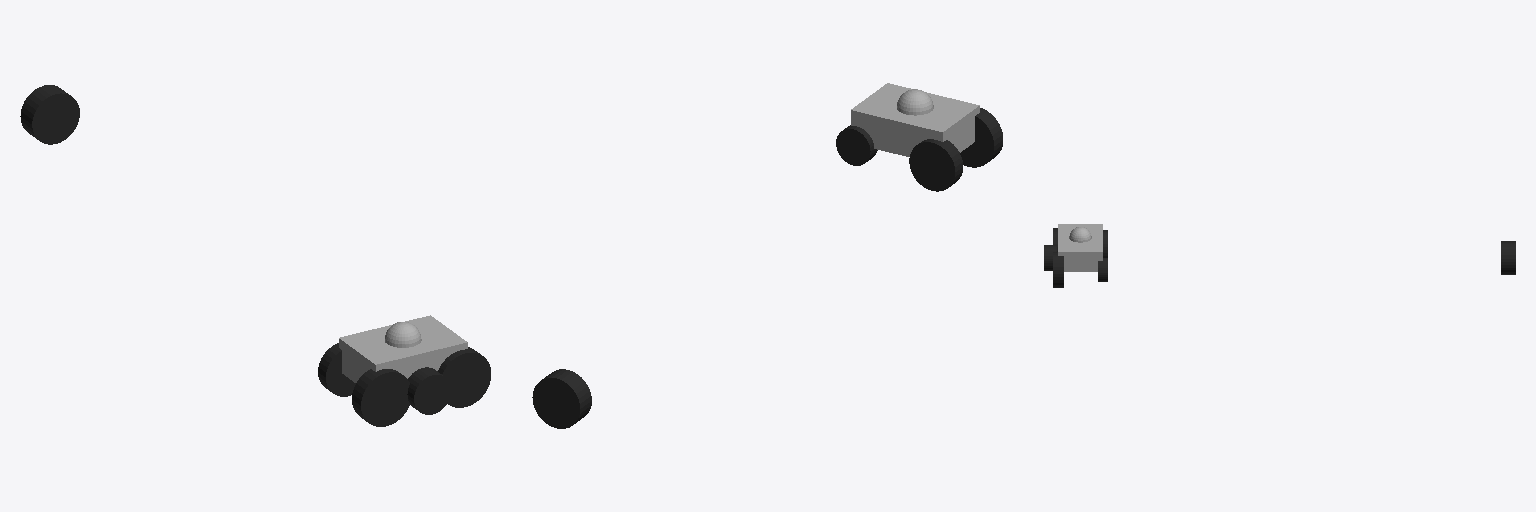
robot.urdf — evolved_robot:
<?xml version="1.0"?>
<robot name="evolved_robot">
  <material name="metal">
    <color rgba="0.7 0.7 0.7 1.0"/>
  </material>
  <material name="plastic">
    <color rgba="0.3 0.3 0.9 1.0"/>
  </material>
  <material name="rubber">
    <color rgba="0.1 0.1 0.1 1.0"/>
  </material>
  <material name="red">
    <color rgba="1.0 0.0 0.0 1.0"/>
  </material>
  <material name="wheel_material">
    <color rgba="0.2 0.2 0.2 1.0"/>
  </material>
  <link name="base_link">
    <visual>
      <geometry><box size="0.28200543666407374 0.1960602003020291 0.09653921606559923"/></geometry>
      <material name="metal"/>
    </visual>
    <collision>
      <geometry><box size="0.28200543666407374 0.1960602003020291 0.09653921606559923"/></geometry>
    </collision>
    <inertial>
      <mass value="5.0"/>
      <inertia ixx="0.03979951865086018" ixy="0" ixz="0" 
               iyy="0.07403907212221279" iyz="0" 
               izz="0.09830555704213889"/>
    </inertial>
  </link>
  <link name="link1">
    <visual>
      <geometry>
        <cylinder radius="0.05276887741149976" length="0.040581285150848495"/>
      </geometry>
      <material name="wheel_material"/>
    </visual>
    <collision>
      <geometry>
        <cylinder radius="0.05276887741149976" length="0.040581285150848495"/>
      </geometry>
    </collision>
    <inertial>
      <mass value="1.0"/>
      <inertia ixx="0.000833375331192012" ixy="0" ixz="0" 
               iyy="0.000833375331192012" iyz="0" 
               izz="0.0013922772116349445"/>
    </inertial>
  </link>
  <joint name="joint1" type="continuous">
    <parent link="base_link"/>
    <child link="link1"/>
    <origin xyz="0.12100271833203687 0.09803010015101454 -0.048269608032799616" rpy="1.5708 0 0"/>
    <axis xyz="0 0 1"/>
    <dynamics damping="0.7812145894427714" friction="0.1"/>
  </joint>
  <link name="link2">
    <visual>
      <geometry>
        <cylinder radius="0.07899620941041051" length="0.04772637766097393"/>
      </geometry>
      <material name="wheel_material"/>
    </visual>
    <collision>
      <geometry>
        <cylinder radius="0.07899620941041051" length="0.04772637766097393"/>
      </geometry>
    </collision>
    <inertial>
      <mass value="1.0"/>
      <inertia ixx="0.00174991753568985" ixy="0" ixz="0" 
               iyy="0.00174991753568985" iyz="0" 
               izz="0.003120200550606715"/>
    </inertial>
  </link>
  <joint name="joint2" type="continuous">
    <parent link="base_link"/>
    <child link="link2"/>
    <origin xyz="0.12100271833203687 -0.09803010015101454 -0.048269608032799616" rpy="1.5708 0 0"/>
    <axis xyz="0 0 1"/>
    <dynamics damping="0.8652752464137597" friction="0.1"/>
  </joint>
  <link name="link3">
    <visual>
      <geometry>
        <cylinder radius="0.07063797436999575" length="0.042093354478068126"/>
      </geometry>
      <material name="wheel_material"/>
    </visual>
    <collision>
      <geometry>
        <cylinder radius="0.07063797436999575" length="0.042093354478068126"/>
      </geometry>
    </collision>
    <inertial>
      <mass value="1.0"/>
      <inertia ixx="0.001395085063375402" ixy="0" ixz="0" 
               iyy="0.001395085063375402" iyz="0" 
               izz="0.002494861711548088"/>
    </inertial>
  </link>
  <joint name="joint3" type="continuous">
    <parent link="base_link"/>
    <child link="link3"/>
    <origin xyz="-0.12100271833203687 0.09803010015101454 -0.048269608032799616" rpy="1.5708 0 0"/>
    <axis xyz="0 0 1"/>
    <dynamics damping="0.69190020288255" friction="0.1"/>
  </joint>
  <link name="link4">
    <visual>
      <geometry>
        <cylinder radius="0.07828401586055114" length="0.048557610339922924"/>
      </geometry>
      <material name="wheel_material"/>
    </visual>
    <collision>
      <geometry>
        <cylinder radius="0.07828401586055114" length="0.048557610339922924"/>
      </geometry>
    </collision>
    <inertial>
      <mass value="1.0"/>
      <inertia ixx="0.001728583578307405" ixy="0" ixz="0" 
               iyy="0.001728583578307405" iyz="0" 
               izz="0.0030641935696275116"/>
    </inertial>
  </link>
  <joint name="joint4" type="continuous">
    <parent link="base_link"/>
    <child link="link4"/>
    <origin xyz="-0.12100271833203687 -0.09803010015101454 -0.048269608032799616" rpy="1.5708 0 0"/>
    <axis xyz="0 0 1"/>
    <dynamics damping="0.6849628307493921" friction="0.1"/>
  </joint>
  <link name="link5">
    <visual>
      <geometry><sphere radius="0.04915514420561673"/></geometry>
      <material name="metal"/>
    </visual>
    <collision>
      <geometry><sphere radius="0.04915514420561673"/></geometry>
    </collision>
    <inertial>
      <mass value="0.5"/>
      <inertia ixx="0.0009664912807499903" ixy="0" ixz="0" 
               iyy="0.0009664912807499903" iyz="0" 
               izz="0.0009664912807499903"/>
    </inertial>
  </link>
  <joint name="joint5" type="prismatic">
    <parent link="base_link"/>
    <child link="link5"/>
    <origin xyz="0 0 0.048269608032799616" rpy="0 0 0"/>
    <axis xyz="-0.6400863788580589 0.5944352090492525 0.48676093705529505"/>
    <dynamics damping="0.7028373833923687" friction="0.1"/>
    <limit lower="-0.3644232264120007" upper="0.9926335345686322" effort="100" velocity="100"/>
  </joint>
  <link name="link6">
    <visual>
      <geometry>
        <cylinder radius="0.05738784063838424" length="0.05389435633647088"/>
      </geometry>
      <material name="wheel_material"/>
    </visual>
    <collision>
      <geometry>
        <cylinder radius="0.05738784063838424" length="0.05389435633647088"/>
      </geometry>
    </collision>
    <inertial>
      <mass value="1.0"/>
      <inertia ixx="0.0010653912003610213" ixy="0" ixz="0" 
               iyy="0.0010653912003610213" iyz="0" 
               izz="0.0016466821265682927"/>
    </inertial>
  </link>
  <joint name="joint6" type="continuous">
    <parent link="base_link"/>
    <child link="link6"/>
    <origin xyz="0 -0.13070680020135272 -0.048269608032799616" rpy="1.5708 0 0"/>
    <axis xyz="0 0 1"/>
    <dynamics damping="0.9270004068807279" friction="0.1"/>
  </joint>
  <link name="link7">
    <visual>
      <geometry>
        <cylinder radius="0.07308121912682697" length="0.06199596548694865"/>
      </geometry>
      <material name="wheel_material"/>
    </visual>
    <collision>
      <geometry>
        <cylinder radius="0.07308121912682697" length="0.06199596548694865"/>
      </geometry>
    </collision>
    <inertial>
      <mass value="1.0"/>
      <inertia ixx="0.0016555077919874024" ixy="0" ixz="0" 
               iyy="0.0016555077919874024" iyz="0" 
               izz="0.00267043229453165"/>
    </inertial>
  </link>
  <joint name="joint7" type="continuous">
    <parent link="base_link"/>
    <child link="link7"/>
    <origin xyz="0 1.8692931997986473 -0.048269608032799616" rpy="1.5708 0 0"/>
    <axis xyz="0 0 1"/>
    <dynamics damping="0.1" friction="0.1"/>
  </joint>
</robot>

--- Facts derived from the render (not from the file) ---
The picture shows the robot from 3 angles, left to right: view 1: azimuth 30°, elevation 25°; view 2: azimuth 150°, elevation 25°; view 3: azimuth 270°, elevation 25°; orthographic projection.
Robot: evolved_robot — 8 links, 7 joints (6 continuous, 1 prismatic); root link base_link; default pose: all joints at 0.
Visible links, largest first — view 1: base_link, link4, link7, link2, link6, link3, link5; view 2: base_link, link7, link3, link4, link1, link5; view 3: base_link.
Link boxes in pixels (bbox=[...]): base_link: bbox=[339, 315, 467, 382]; link4: bbox=[352, 369, 409, 426]; link7: bbox=[20, 85, 79, 144]; link2: bbox=[438, 347, 490, 407]; link6: bbox=[407, 367, 451, 414]; link3: bbox=[318, 343, 355, 396]; link5: bbox=[385, 322, 421, 347]; base_link: bbox=[851, 83, 979, 156]; link7: bbox=[532, 369, 591, 428]; link3: bbox=[909, 139, 962, 191]; link4: bbox=[960, 108, 1002, 167]; link1: bbox=[836, 125, 877, 165]; link5: bbox=[897, 89, 933, 115]; base_link: bbox=[1058, 224, 1102, 271].
Size in the robot's own frame: 0.3993 by 2.06 by 0.2247 metres.
Geometry: primitives only (box / cylinder / sphere), no mesh files.